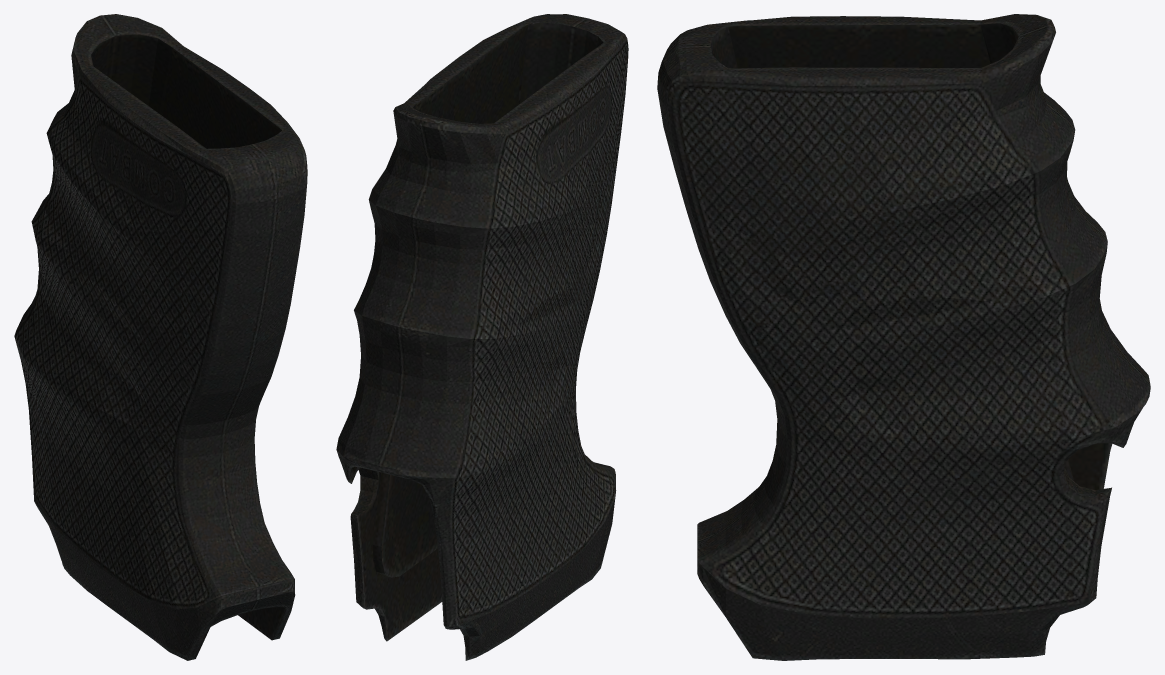
3 views of the same model, side by side, from view 1: azimuth 30°, elevation 25°; view 2: azimuth 150°, elevation 25°; view 3: azimuth 270°, elevation 25° (orthographic). The views are drawn at different scales.
Parts seen in each view (by area): view 1: TW_5c0684e50db834002a12585a_PZ_Import; view 2: TW_5c0684e50db834002a12585a_PZ_Import; view 3: TW_5c0684e50db834002a12585a_PZ_Import.
Part boxes in pixels (<box>): TW_5c0684e50db834002a12585a_PZ_Import: <box>14,14,307,660</box>; TW_5c0684e50db834002a12585a_PZ_Import: <box>336,14,628,660</box>; TW_5c0684e50db834002a12585a_PZ_Import: <box>657,14,1150,660</box>.
Size of the model in its own units: 0.0177 by 0.046 by 0.0624.
Materials: 1 (1 with a texture image).
